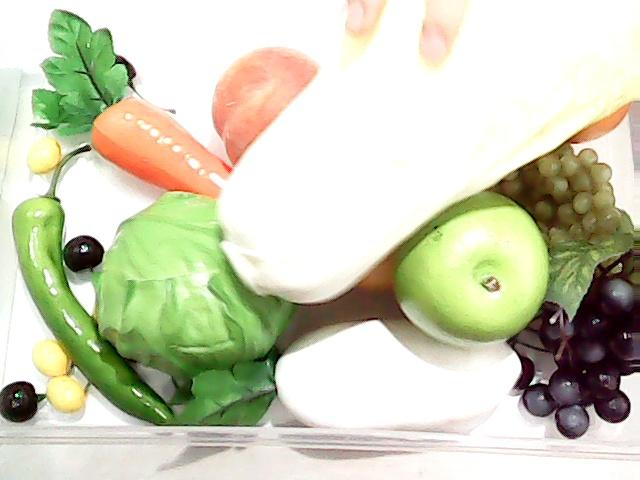apple: (402, 186, 546, 342)
cabbage: (99, 179, 284, 372), (407, 187, 543, 347)
carrot: (30, 8, 234, 204)
grape: (523, 238, 640, 439), (492, 142, 636, 274)
lemon: (560, 98, 632, 146)
mango: (348, 246, 404, 296)
napa cabbage: (215, 0, 640, 307)
peach: (210, 46, 324, 166)
pepper: (8, 172, 188, 422)
radish: (180, 320, 524, 458)
